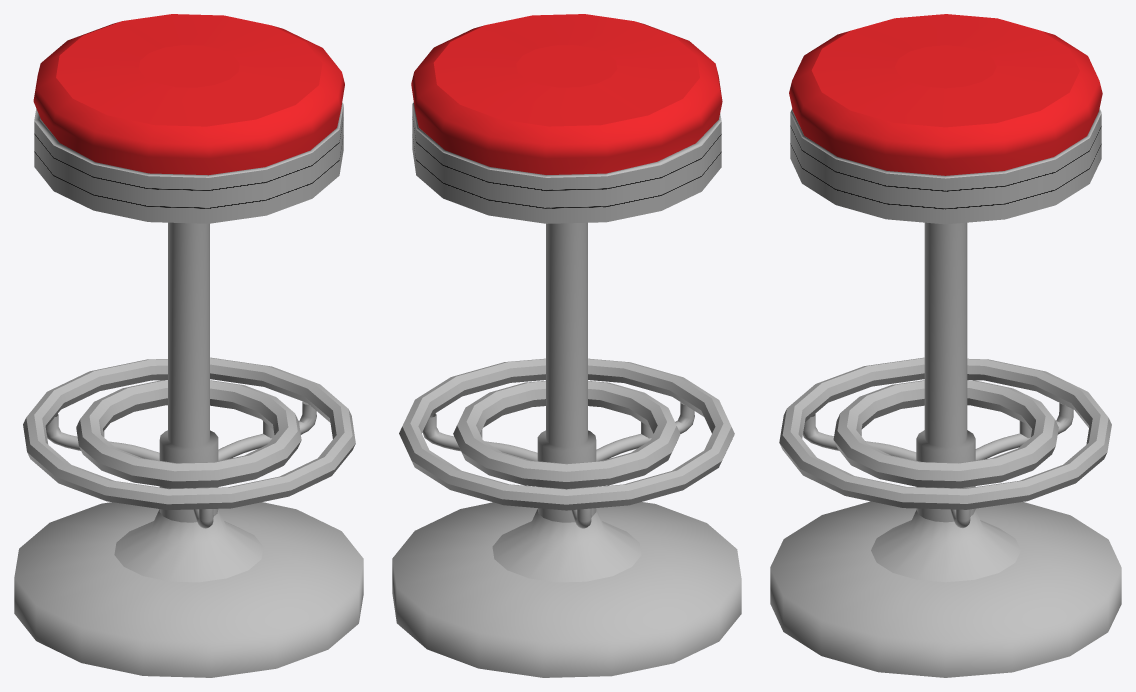
Rendered from stool.fbx.
3 views of the same model, side by side, from view 1: azimuth 30°, elevation 25°; view 2: azimuth 150°, elevation 25°; view 3: azimuth 270°, elevation 25° (orthographic).
Visible parts, largest first — view 1: pTorus6; view 2: pTorus6; view 3: pTorus6.
Boxes of the visible parts, x1,y1,x2,y2 form: pTorus6: (14,14,363,677); pTorus6: (392,14,741,677); pTorus6: (770,14,1121,677).
Bounding box in the file's own units: 3.05 × 5.13 × 3.05.
